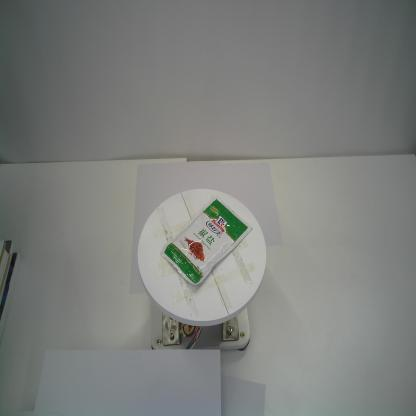Seasoner: (158, 193, 254, 287)
